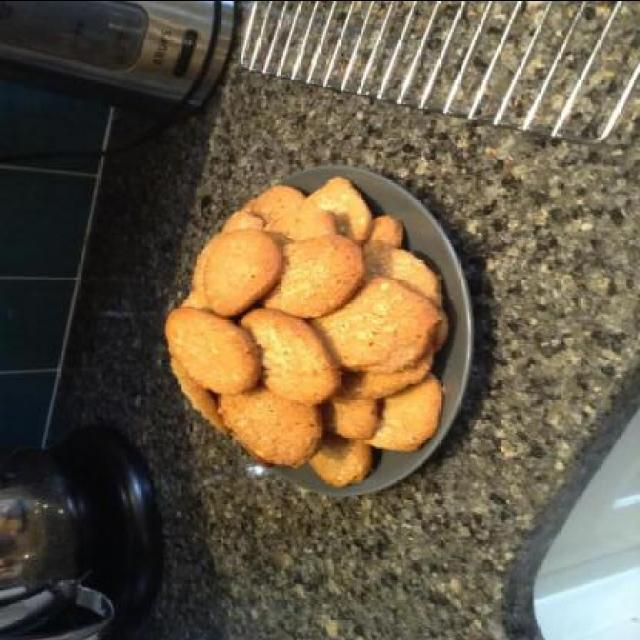Cookie: (158, 172, 450, 488)
